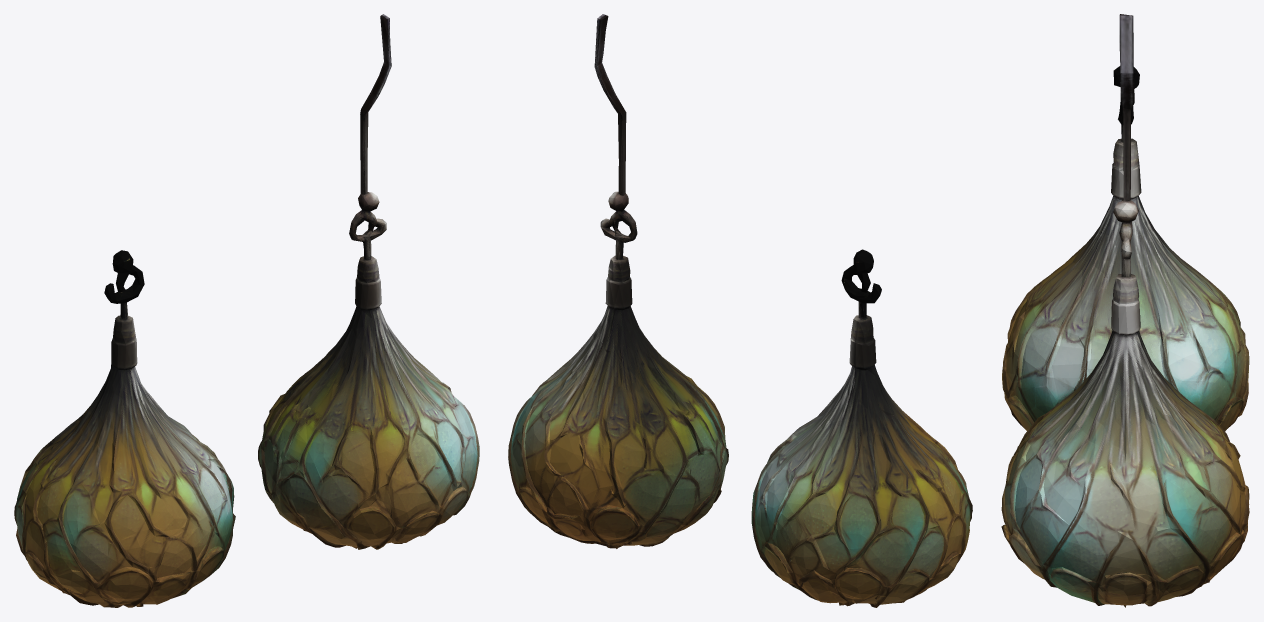
Rendered from natural-seed-earrings-futuristic.jpeg.glb.
3 views of the same model, side by side, from view 1: azimuth 30°, elevation 25°; view 2: azimuth 150°, elevation 25°; view 3: azimuth 270°, elevation 25° (orthographic). The views are drawn at different scales.
Parts seen in each view (by area): view 1: world; view 2: world; view 3: world.
Boxes of the visible parts, <box> form: world: <box>14,14,479,607</box>; world: <box>508,14,972,607</box>; world: <box>1001,14,1249,607</box>.
Bounding box in the file's own units: 0.8845 × 1 × 0.3863.
1 material, 1 textured.
